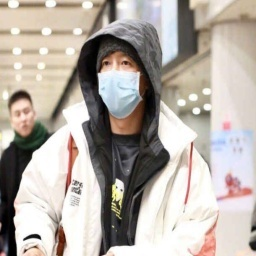correctlyWear: (96, 53, 148, 118)
noWear: (10, 101, 36, 138)
